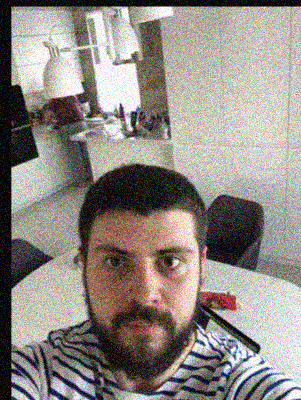without_mask: (87, 228, 197, 379)
